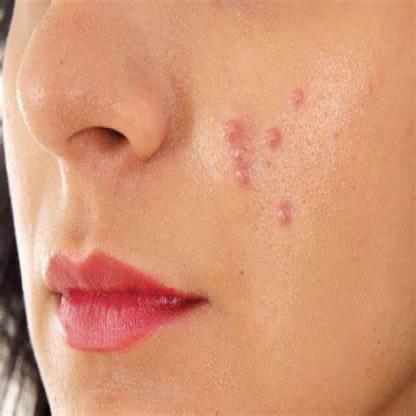Acne: (258, 120, 285, 157), (220, 110, 241, 150), (232, 154, 252, 194), (287, 82, 307, 113), (274, 198, 292, 229)
